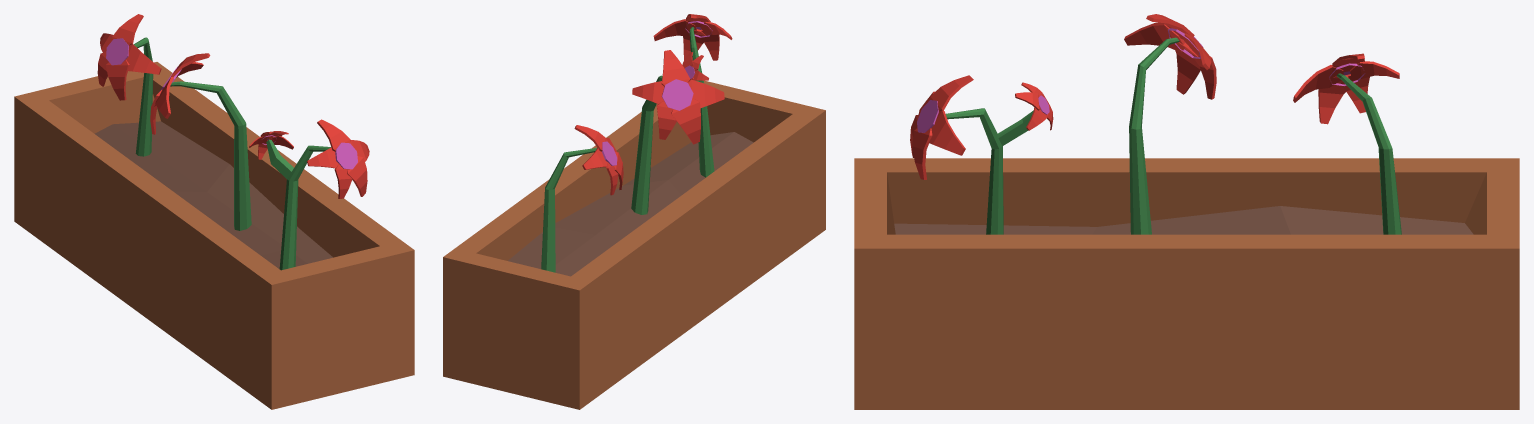
The model's file is FlowerBench.fbx.
3 views of the same model, side by side, from view 1: azimuth 30°, elevation 25°; view 2: azimuth 150°, elevation 25°; view 3: azimuth 270°, elevation 25° (orthographic). The views are drawn at different scales.
Parts seen in each view (by area): view 1: FlowerBench; view 2: FlowerBench; view 3: FlowerBench.
Boxes of the visible parts, bbox=[...] form: FlowerBench: bbox=[14, 14, 414, 409]; FlowerBench: bbox=[443, 14, 825, 409]; FlowerBench: bbox=[854, 14, 1519, 409].
Bounding box in the file's own units: 64.32 × 111 × 200.
